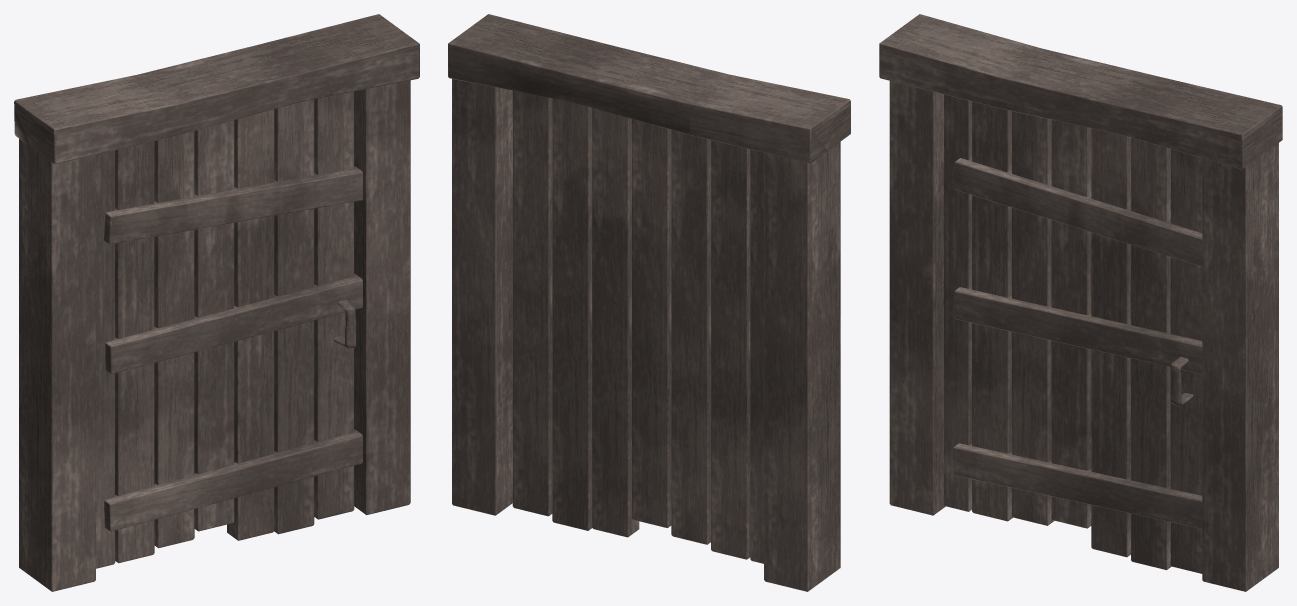
File: desktop.glb
3 renders of one model, left to right at view 1: azimuth 30°, elevation 25°; view 2: azimuth 150°, elevation 25°; view 3: azimuth 330°, elevation 25°, orthographic.
Visible parts, largest first — view 1: SM_door_01; view 2: SM_door_01; view 3: SM_door_01.
Part boxes in pixels (x1,y1,x2,y2): SM_door_01: (14, 14, 419, 591); SM_door_01: (448, 14, 850, 591); SM_door_01: (879, 14, 1282, 591).
Size of the model in its own units: 2.02 by 2.5 by 0.3911.
1 material, 1 textured.
